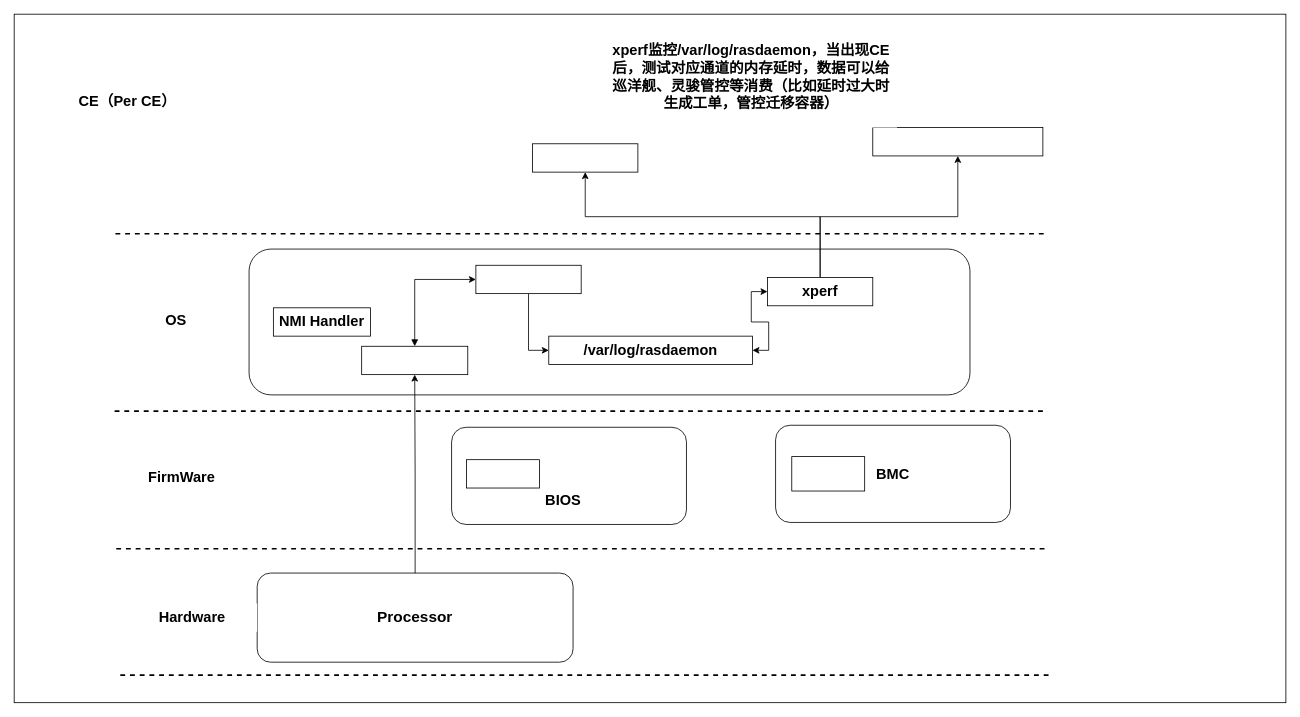
Some shapes in this 1300 by 717 pixel diagram are drawn without their labels. Each missing label, with the centre of its shape:
CMCI Handler: the point at 414,360
Log Handler: the point at 828,473
rasdaemon: the point at 528,279
SMI: the point at 502,473
巡洋舰: the point at 585,157
灵骏管控/amperf/PAI...: the point at 957,141
